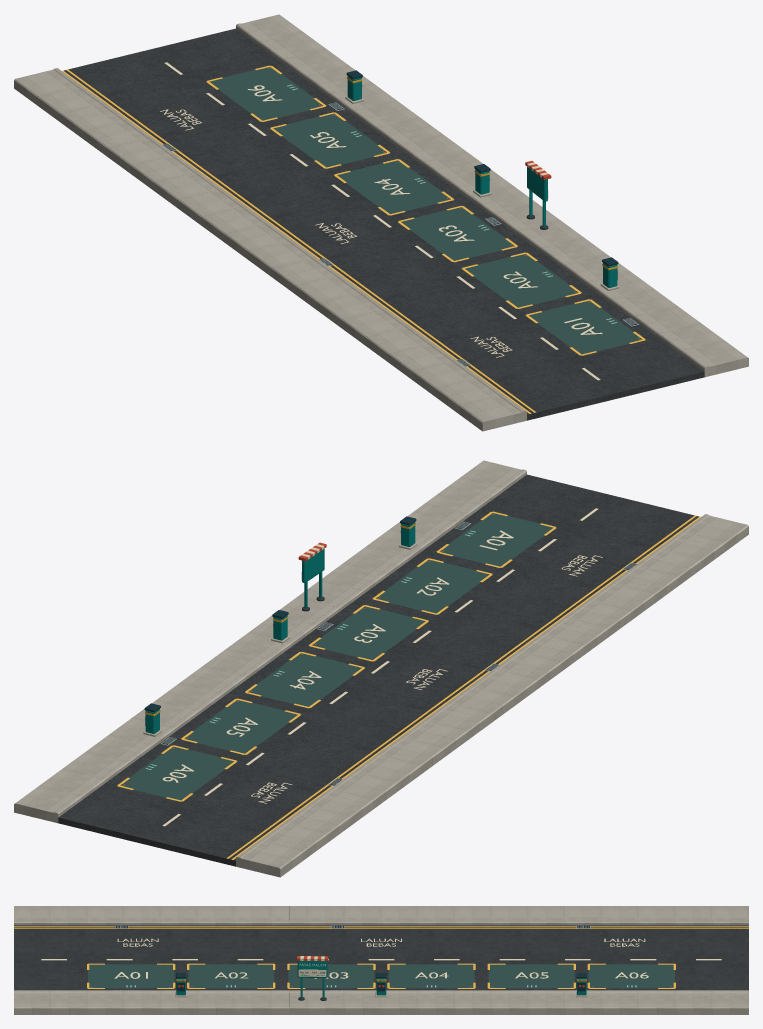
The picture shows the model from 3 angles, top to bottom: view 1: azimuth 30°, elevation 25°; view 2: azimuth 150°, elevation 25°; view 3: azimuth 270°, elevation 25°; orthographic projection. The views are drawn at different scales.
Parts seen in each view (by area): view 1: Road deck, Kerbs and footways, Market pitch wash, No parking kerb lines, Pitch keys, Pitch stencil, Power pedestals, Footway saw cuts, Clear aisle stencil; view 2: Road deck, Kerbs and footways, Market pitch wash, No parking kerb lines, Pitch keys, Pitch stencil, Power pedestals, Footway saw cuts, Clear aisle stencil; view 3: Road deck, Kerbs and footways, Market pitch wash, No parking kerb lines, Pitch keys, Pitch stencil, Loading aisle separator, Clear aisle stencil, Footway saw cuts, Power pedestals, Market sign, Ivory band.
Boxes of the visible parts, <box> form: Road deck: <box>64,28,704,420</box>; Kerbs and footways: <box>14,14,748,431</box>; Market pitch wash: <box>209,67,642,354</box>; No parking kerb lines: <box>62,69,536,413</box>; Pitch keys: <box>206,65,645,355</box>; Pitch stencil: <box>247,85,602,334</box>; Power pedestals: <box>347,76,617,287</box>; Footway saw cuts: <box>46,36,717,400</box>; Clear aisle stencil: <box>160,109,512,357</box>; Road deck: <box>58,474,698,866</box>; Kerbs and footways: <box>14,460,748,877</box>; Market pitch wash: <box>120,513,553,800</box>; No parking kerb lines: <box>226,515,700,859</box>; Pitch keys: <box>117,511,556,801</box>; Pitch stencil: <box>162,530,513,782</box>; Power pedestals: <box>145,522,415,733</box>; Footway saw cuts: <box>45,482,716,846</box>; Clear aisle stencil: <box>251,555,602,803</box>; Road deck: <box>14,925,748,990</box>; Kerbs and footways: <box>14,906,748,1014</box>; Market pitch wash: <box>88,964,674,988</box>; No parking kerb lines: <box>14,926,748,928</box>; Pitch keys: <box>87,963,675,988</box>; Pitch stencil: <box>114,972,648,978</box>; Loading aisle separator: <box>41,959,721,960</box>; Clear aisle stencil: <box>117,938,645,946</box>; Footway saw cuts: <box>59,906,703,1006</box>; Power pedestals: <box>176,978,586,995</box>; Market sign: <box>297,961,327,977</box>; Ivory band: <box>298,969,326,976</box>.
Bounding box in the file's own units: 10.5 × 2.38 × 32.
Materials: 14 (3 with a texture image).
